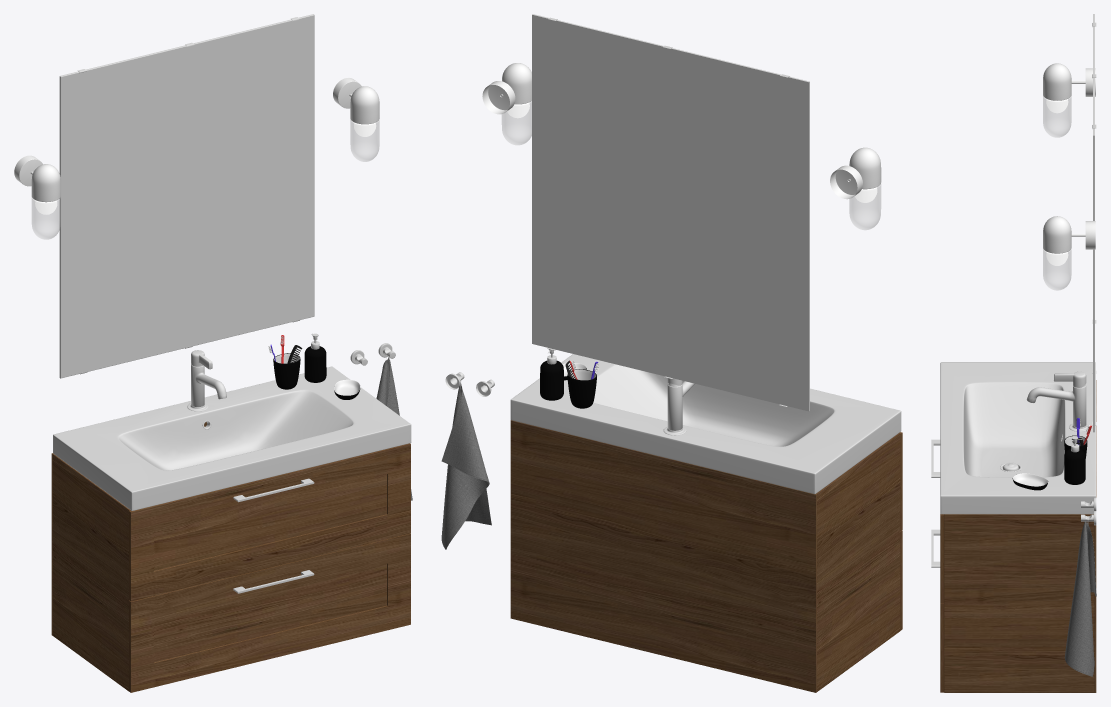
Rendered from bath_kit2.glb.
3 views of the same model, side by side, from view 1: azimuth 30°, elevation 25°; view 2: azimuth 150°, elevation 25°; view 3: azimuth 270°, elevation 25° (orthographic). The views are drawn at different scales.
Visible parts, largest first — view 1: boxes; view 2: boxes; view 3: boxes.
Boxes of the visible parts, x1,y1,x2,y2 form: boxes: (14,14,412,692); boxes: (441,14,902,692); boxes: (931,14,1096,692).
Bounding box in the file's own units: 1.38 × 1.9 × 0.52.
12 materials, 2 textured.
